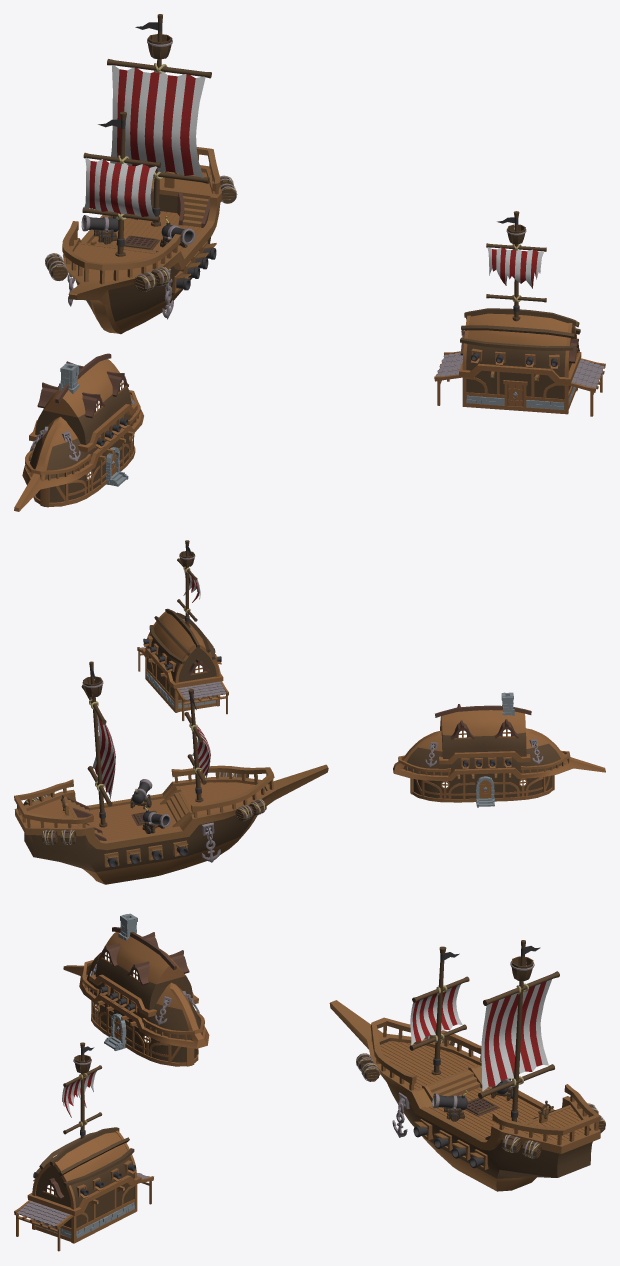
File: sceneMenu_Interactive.glb
3 renders of one model, top to bottom at view 1: azimuth 30°, elevation 25°; view 2: azimuth 150°, elevation 25°; view 3: azimuth 270°, elevation 25°, orthographic. The views are drawn at different scales.
Visible parts, largest first — view 1: Ship_Large, Environment_House3, Environment_House1; view 2: Ship_Large, Environment_House1, Environment_House3; view 3: Ship_Large, Environment_House1, Environment_House3.
Boxes of the visible parts, x1,y1,x2,y2 form: Ship_Large: [45, 14, 237, 334]; Environment_House3: [434, 211, 605, 416]; Environment_House1: [14, 353, 143, 511]; Ship_Large: [14, 661, 328, 884]; Environment_House1: [393, 692, 605, 807]; Environment_House3: [137, 540, 228, 720]; Ship_Large: [329, 940, 605, 1191]; Environment_House1: [63, 913, 209, 1066]; Environment_House3: [14, 1042, 153, 1251].
Size of the model in its own units: 20.84 by 9.01 by 19.62.
Materials: 5 (3 with a texture image).
